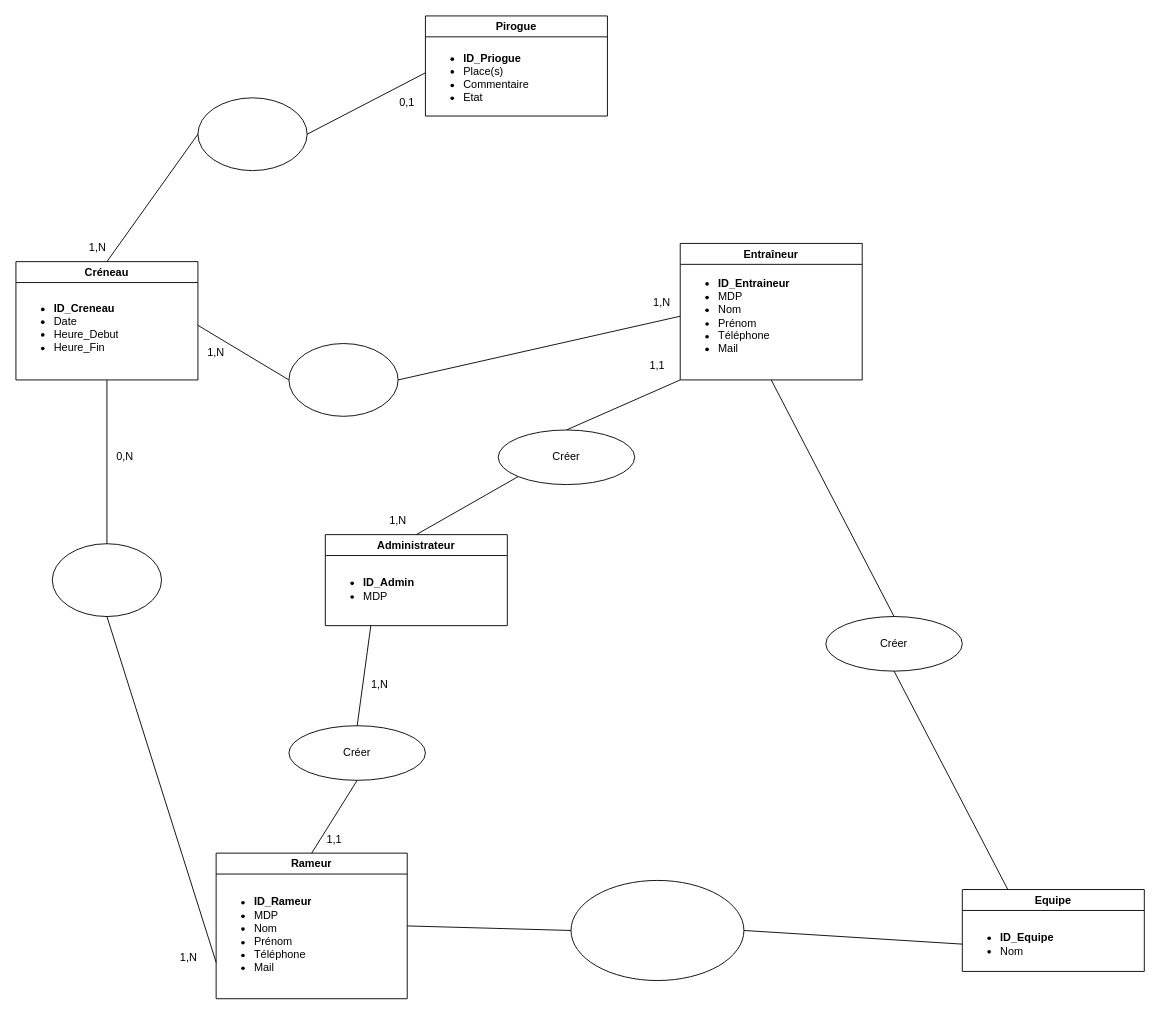
Image size: 1160x1015. Some labels were removed from this diagram. The shapes that lost their labels are listed below. From the top down, each one's centre as x and y in pixels, then its label:
point (343, 379): Tenu
point (106, 580): Participe
point (657, 930): Membre
